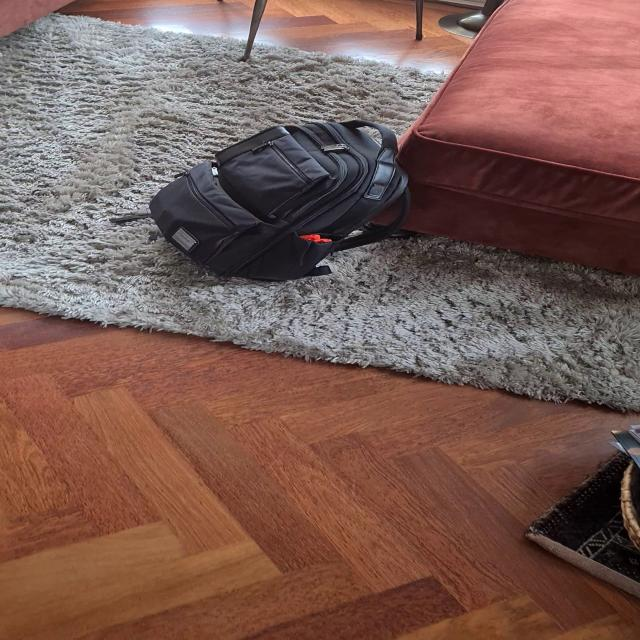backpack: (138, 113, 422, 287)
